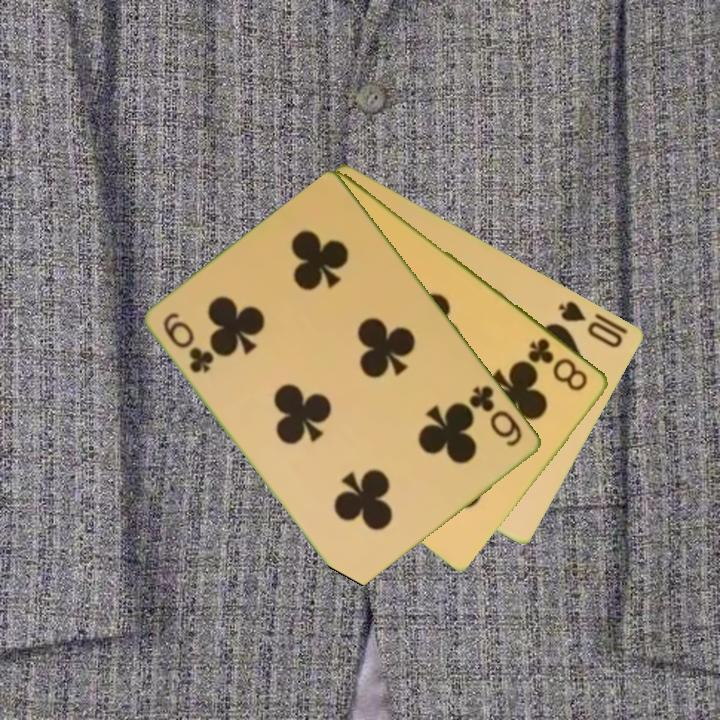10s: (555, 297, 627, 351)
6c: (466, 382, 526, 450), (160, 308, 217, 377)
8c: (524, 334, 592, 394)
